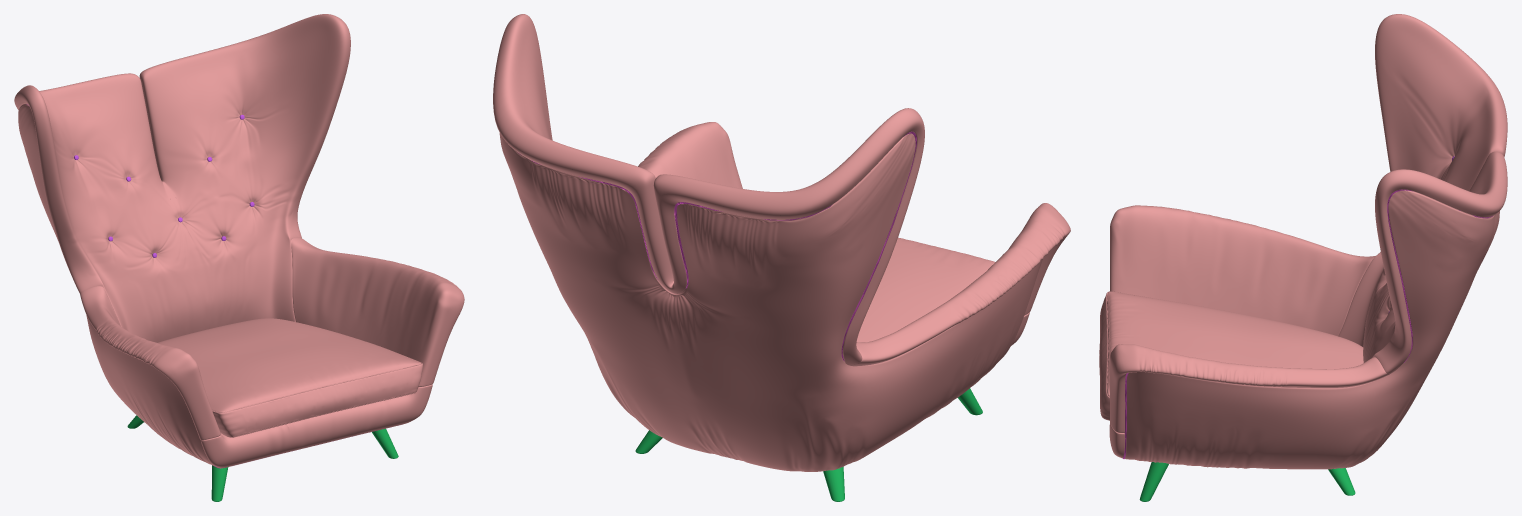
Rendered from chairss.obj.
The picture shows the model from 3 angles, left to right: view 1: azimuth 30°, elevation 25°; view 2: azimuth 150°, elevation 25°; view 3: azimuth 270°, elevation 25°; orthographic projection. The views are drawn at different scales.
Visible parts, largest first — view 1: Plane006, Object001, Object009; view 2: Plane006, Object001, Shape001; view 3: Plane006, Object001, Cylinder001, Shape001.
Part boxes in pixels (x1=…): Plane006: x1=14, y1=14, x2=464, y2=468; Object001: x1=157, y1=318, x2=422, y2=437; Object009: x1=212, y1=360, x2=421, y2=437; Plane006: x1=493, y1=14, x2=1070, y2=471; Object001: x1=856, y1=237, x2=995, y2=342; Shape001: x1=519, y1=131, x2=916, y2=361; Plane006: x1=1109, y1=14, x2=1507, y2=469; Object001: x1=1099, y1=291, x2=1363, y2=420; Cylinder001: x1=1139, y1=462, x2=1168, y2=501; Shape001: x1=1123, y1=189, x2=1492, y2=458.
Size of the model in its own units: 0.8945 by 0.9117 by 0.9338.
